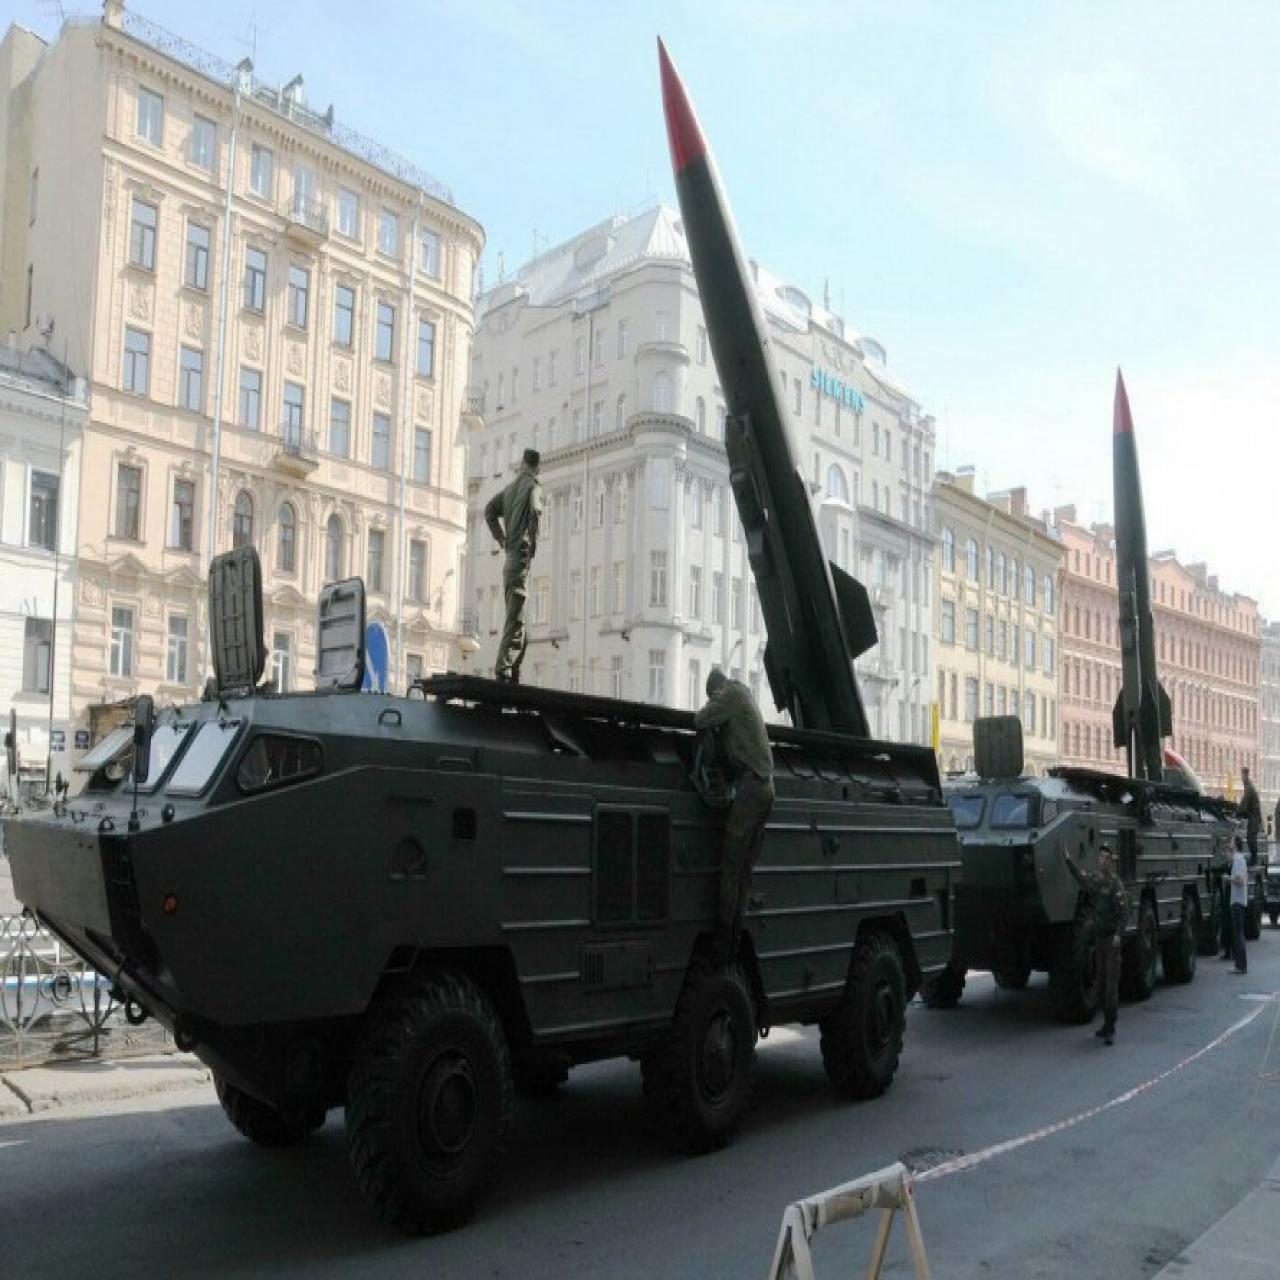MIL_Veh: (34, 33, 959, 1192), (965, 369, 1255, 993)
